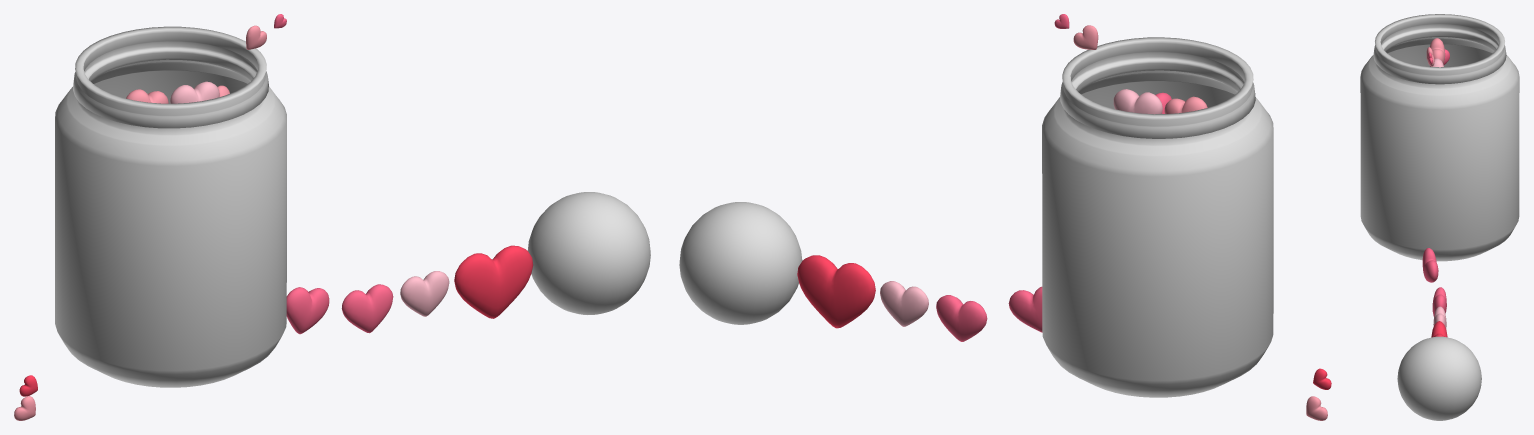
The model's file is JarofHearts.fbx.
The picture shows the model from 3 angles, left to right: view 1: azimuth 30°, elevation 25°; view 2: azimuth 150°, elevation 25°; view 3: azimuth 270°, elevation 25°; orthographic projection. The views are drawn at different scales.
Visible parts, largest first — view 1: JarOfHearts, Heart_04, Heart_03, Heart_01, Heart_02; view 2: JarOfHearts, Heart_04, Heart_03, Heart_01, Heart_02; view 3: JarOfHearts, Heart_04, Heart_01, Heart_03, Heart_02.
Part boxes in pixels (<box>): JarOfHearts: <box>14,14,329,420</box>; Heart_04: <box>527,192,650,314</box>; Heart_03: <box>454,245,533,318</box>; Heart_01: <box>341,284,393,333</box>; Heart_02: <box>400,271,449,316</box>; JarOfHearts: <box>1008,14,1331,420</box>; Heart_04: <box>679,202,802,324</box>; Heart_03: <box>797,255,875,328</box>; Heart_01: <box>936,295,987,341</box>; Heart_02: <box>880,281,928,326</box>; JarOfHearts: <box>1360,14,1519,282</box>; Heart_04: <box>1397,336,1481,420</box>; Heart_01: <box>1432,287,1446,316</box>; Heart_03: <box>1431,321,1447,337</box>; Heart_02: <box>1433,306,1446,328</box>.
Bounding box in the file's own units: 7.31 × 4.16 × 2.32.
